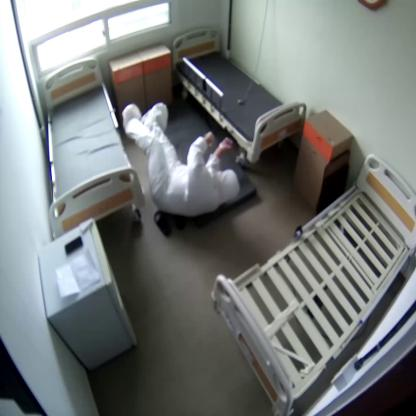Bed: (173, 27, 305, 162)
Person: (122, 104, 243, 217)
